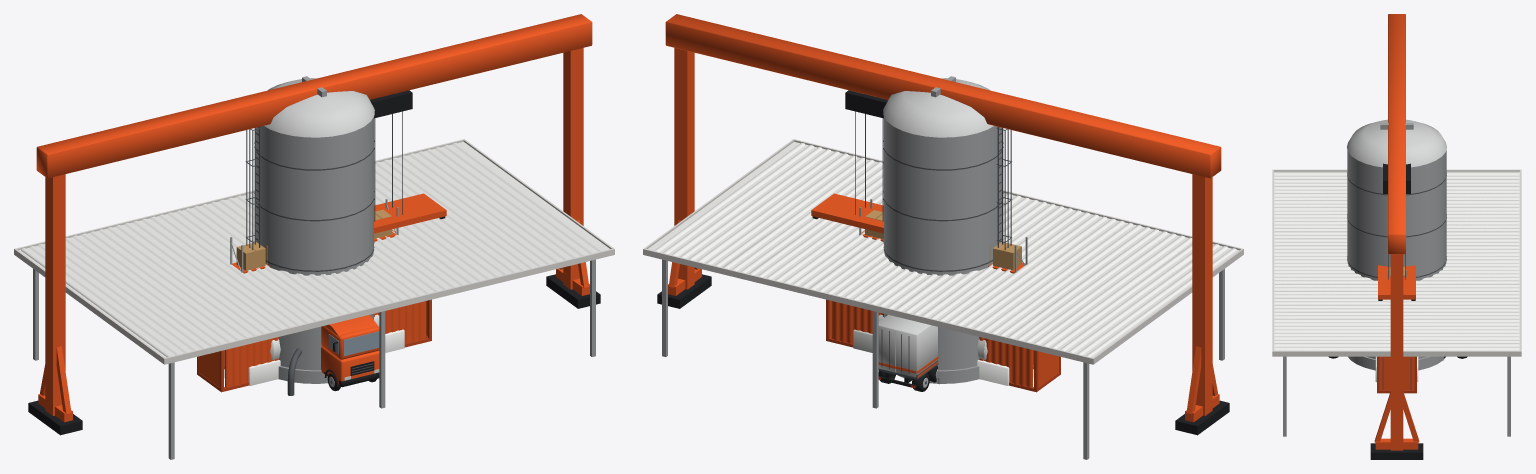
The model's file is assets.glb.
3 views of the same model, side by side, from view 1: azimuth 30°, elevation 25°; view 2: azimuth 150°, elevation 25°; view 3: azimuth 270°, elevation 25° (orthographic). The views are drawn at different scales.
Visible parts, largest first — view 1: asset_canopy__white, asset_gantry_crane__orange, asset_silo__gray, asset_canopy__offwhite, asset_silo__lightgray, asset_container_orange__orange, asset_canopy__gray, asset_truck_box__orange, asset_silo__darkgray, asset_gantry_crane__black, asset_condenser__white, asset_rack__cardboard (+3 smaller); view 2: asset_canopy__white, asset_gantry_crane__orange, asset_silo__gray, asset_canopy__offwhite, asset_silo__lightgray, asset_container_orange__orange, asset_truck_box__lightgray, asset_canopy__gray, asset_gantry_crane__black, asset_silo__darkgray, asset_condenser__white, asset_rack__cardboard (+2 smaller); view 3: asset_canopy__white, asset_silo__gray, asset_gantry_crane__orange, asset_silo__lightgray, asset_canopy__offwhite, asset_gantry_crane__black, asset_container_orange__orange, asset_canopy__gray, asset_silo__darkgray, asset_container_orange__orange_dark.
Part boxes in pixels (x1,y1,x2,y2): asset_canopy__white: (19,141,610,357); asset_gantry_crane__orange: (36,14,592,422); asset_silo__gray: (256,117,373,383); asset_canopy__offwhite: (14,139,614,364); asset_silo__lightgray: (264,78,374,137); asset_container_orange__orange: (199,300,427,387); asset_canopy__gray: (33,259,595,459); asset_truck_box__orange: (321,315,379,384); asset_silo__darkgray: (245,127,374,395); asset_gantry_crane__black: (28,90,600,435); asset_condenser__white: (248,329,404,385); asset_rack__cardboard: (236,209,392,270); asset_canopy__white: (647,141,1238,357); asset_gantry_crane__orange: (665,14,1221,422); asset_silo__gray: (884,117,1001,383); asset_canopy__offwhite: (643,139,1243,364); asset_silo__lightgray: (883,78,993,137); asset_container_orange__orange: (830,300,1058,387); asset_truck_box__lightgray: (878,314,937,377); asset_canopy__gray: (662,259,1224,459); asset_gantry_crane__black: (657,90,1229,435); asset_silo__darkgray: (883,127,1012,271); asset_condenser__white: (853,329,1009,385); asset_rack__cardboard: (865,210,1021,270); asset_canopy__white: (1274,171,1519,350); asset_silo__gray: (1347,150,1446,370); asset_gantry_crane__orange: (1374,14,1419,450); asset_silo__lightgray: (1347,119,1446,167); asset_canopy__offwhite: (1272,169,1521,356); asset_gantry_crane__black: (1370,163,1423,459); asset_container_orange__orange: (1379,356,1414,390); asset_canopy__gray: (1283,356,1510,436); asset_silo__darkgray: (1347,173,1446,277); asset_container_orange__orange_dark: (1377,356,1416,393).
Size of the model in its own units: 31.6 by 15.15 by 15.1.
